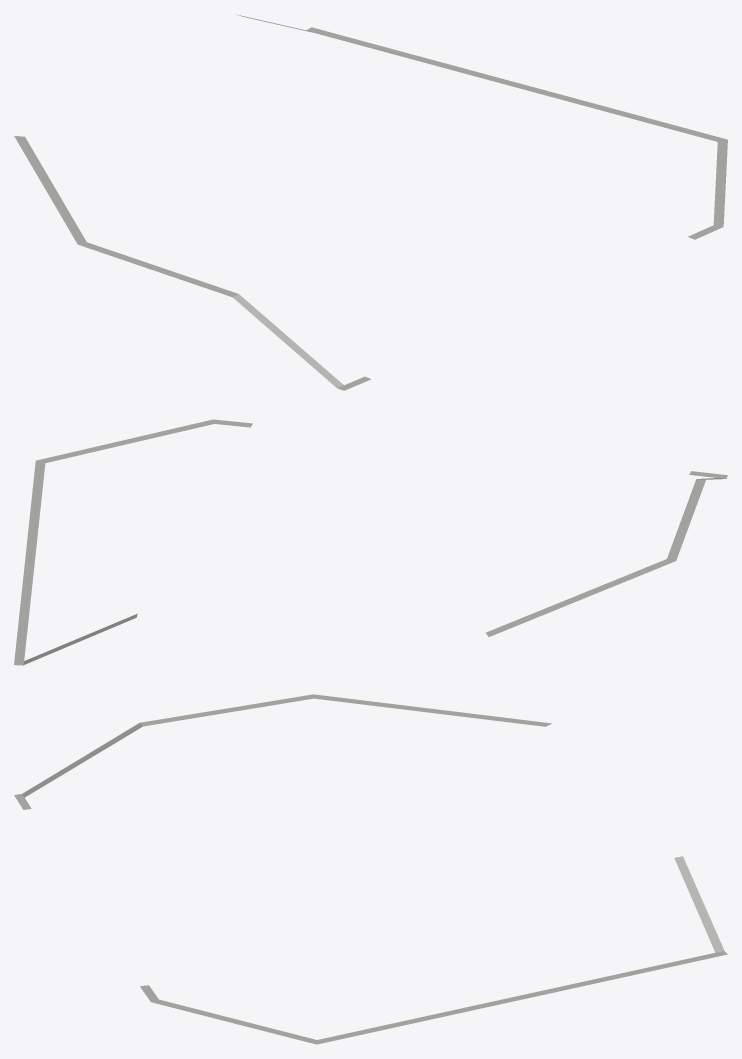
File: kd_stage_1366d7_1_0.glb
The picture shows the model from 3 angles, top to bottom: view 1: azimuth 30°, elevation 25°; view 2: azimuth 150°, elevation 25°; view 3: azimuth 270°, elevation 25°; orthographic projection. The views are drawn at different scales.
Parts seen in each view (by area): view 1: kd_stage_1366d7_1_0; view 2: kd_stage_1366d7_1_0; view 3: kd_stage_1366d7_1_0.
Part boxes in pixels (<box>): kd_stage_1366d7_1_0: <box>14,14,727,390</box>; kd_stage_1366d7_1_0: <box>14,419,727,665</box>; kd_stage_1366d7_1_0: <box>14,694,727,1044</box>.
Size of the model in its own units: 50.1 by 4.07 by 50.67.
Materials: 1 (1 with a texture image).
